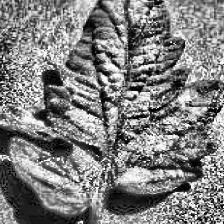leaf mold: (0, 0, 224, 213)
